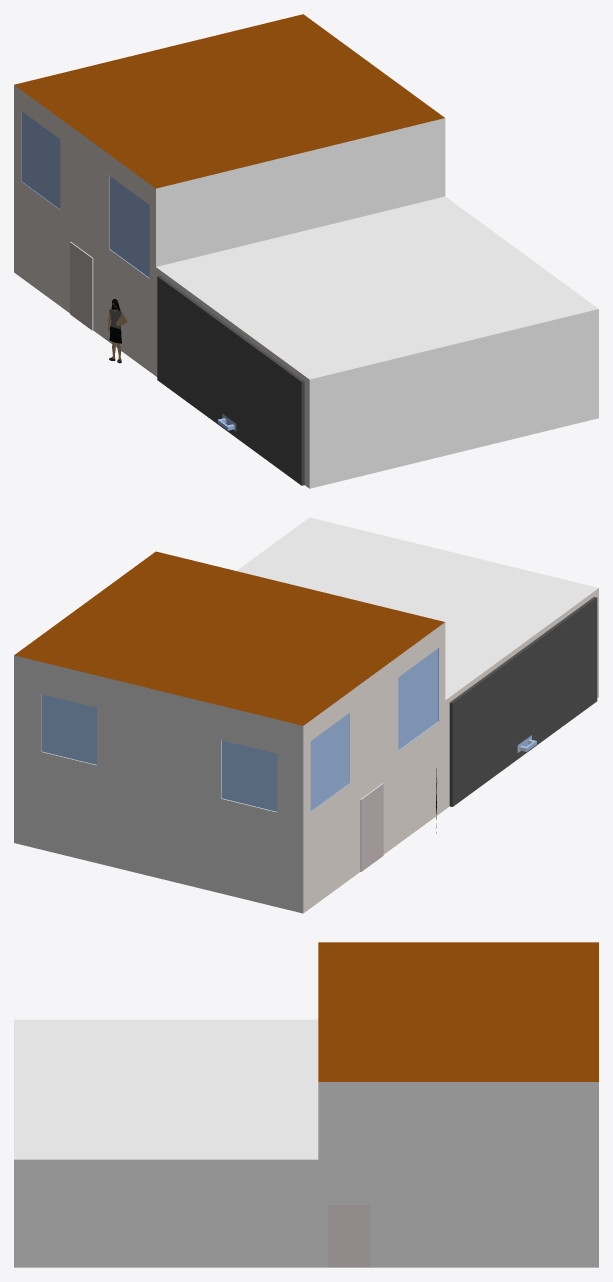
Rendered from House.fbx.
3 views of the same model, one above another, from view 1: azimuth 30°, elevation 25°; view 2: azimuth 150°, elevation 25°; view 3: azimuth 270°, elevation 25° (orthographic).
Visible parts, largest first — view 1: Model, Sophie1; view 2: Model; view 3: Model.
Boxes of the visible parts, <box> form: Model: <box>14,14,598,488</box>; Sophie1: <box>108,299,127,363</box>; Model: <box>14,517,598,913</box>; Model: <box>14,942,598,1267</box>.
Size of the model in its own units: 341 by 198 by 565.
